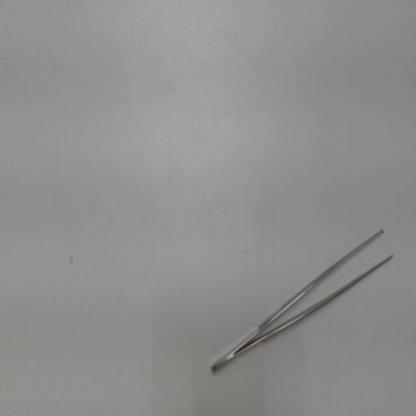Gillies Toothed Dissector: (204, 218, 402, 380)
